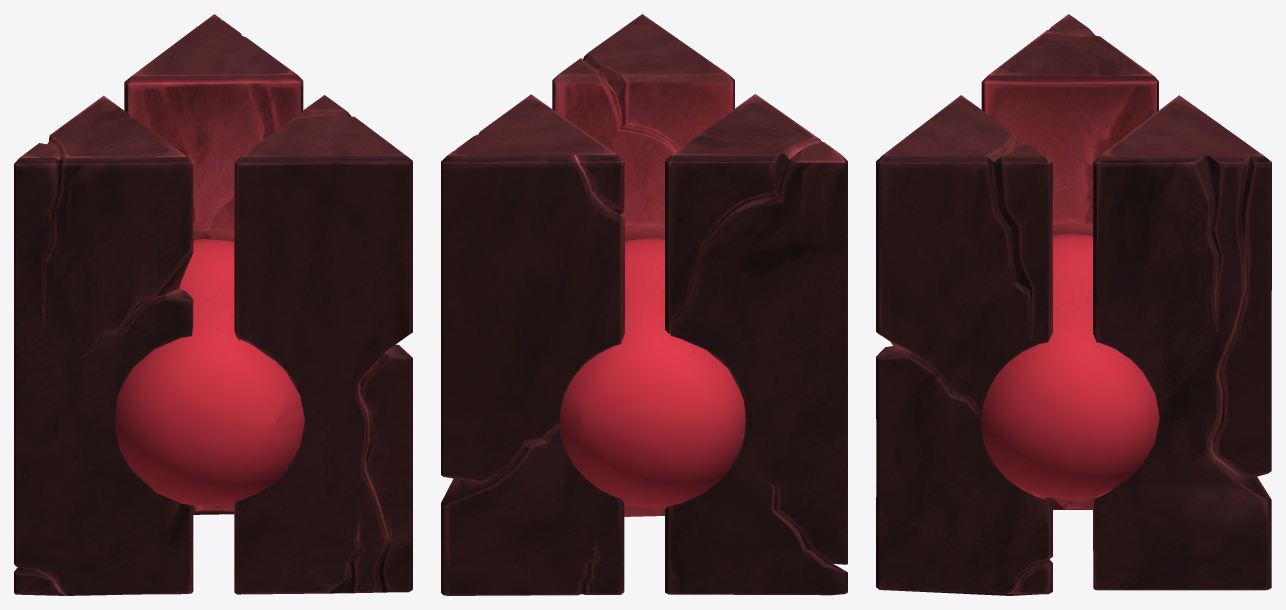
Rendered from bloodstone.fbx.
The picture shows the model from 3 angles, left to right: view 1: azimuth 30°, elevation 25°; view 2: azimuth 150°, elevation 25°; view 3: azimuth 270°, elevation 25°; orthographic projection.
Visible parts, largest first — view 1: bloodstone; view 2: bloodstone; view 3: bloodstone.
Boxes of the visible parts, x1,y1,x2,y2 form: bloodstone: [14, 14, 412, 595]; bloodstone: [441, 14, 847, 595]; bloodstone: [876, 14, 1271, 595].
Bounding box in the file's own units: 48.76 × 66.14 × 54.09.
1 material, 1 textured.
